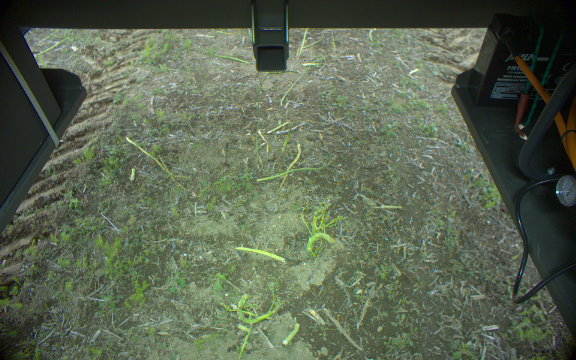aspa: (233, 291, 280, 324), (309, 231, 333, 254)
